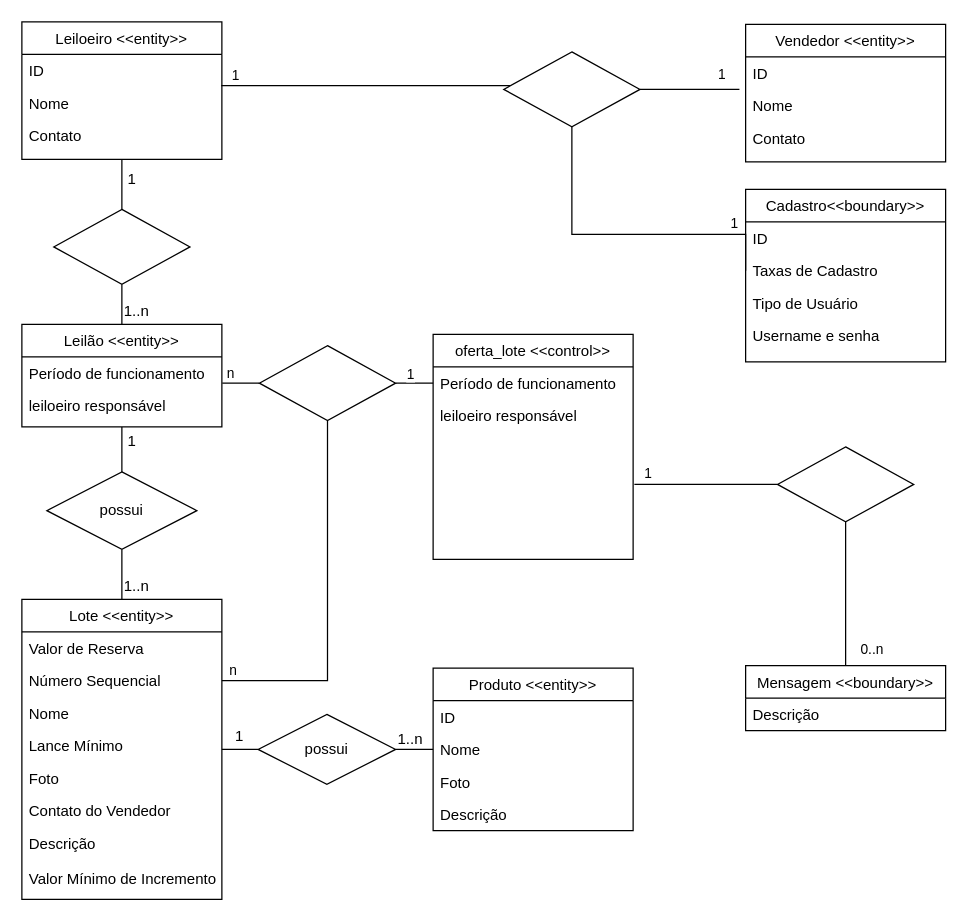
Image size: 968x923. Some labels were removed from this diagram. The centre of each missing label's shape, as x and y in pixels:
"controla" belongs at point 327,382.
"Gera" belongs at point 845,484.
"oferta" belongs at point 121,246.
"tem" belongs at point 571,89.
